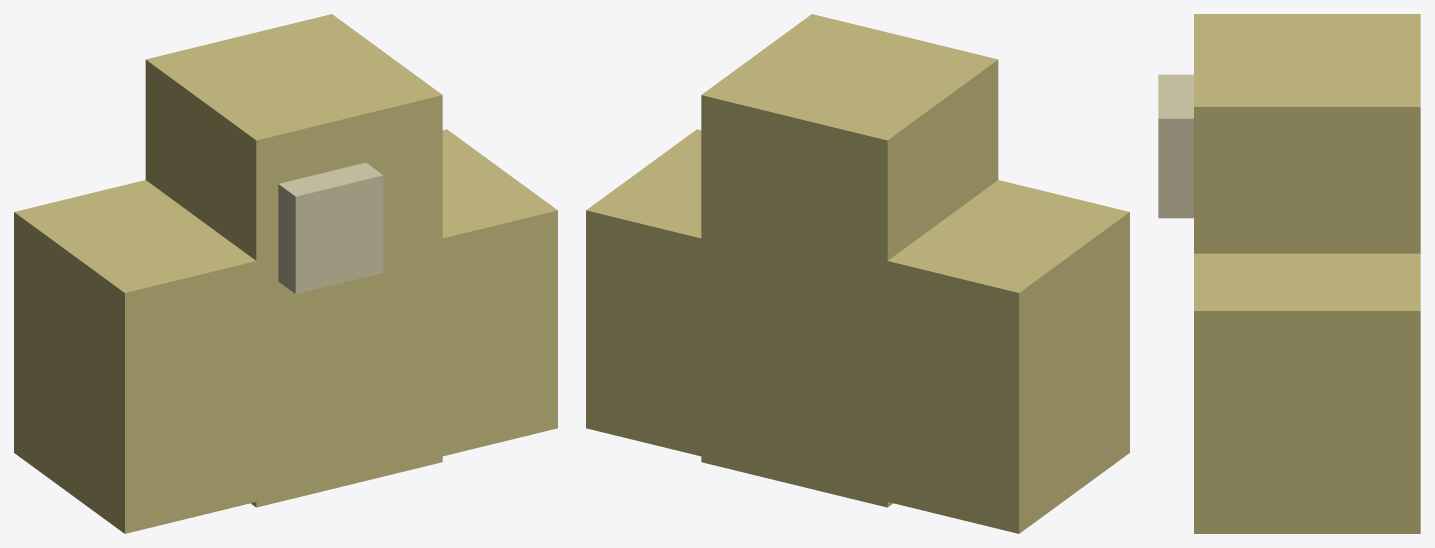
File: dye_yellow.glb
The picture shows the model from 3 angles, left to right: view 1: azimuth 30°, elevation 25°; view 2: azimuth 150°, elevation 25°; view 3: azimuth 270°, elevation 25°; orthographic projection. The views are drawn at different scales.
Parts seen in each view (by area): view 1: dye_yellow; view 2: dye_yellow; view 3: dye_yellow.
Boxes of the visible parts, x1=… form: dye_yellow: x1=14, y1=14, x2=557, y2=533; dye_yellow: x1=586, y1=14, x2=1129, y2=533; dye_yellow: x1=1158, y1=14, x2=1420, y2=533.
Bounding box in the file's own units: 0.79 × 0.64 × 0.405.
